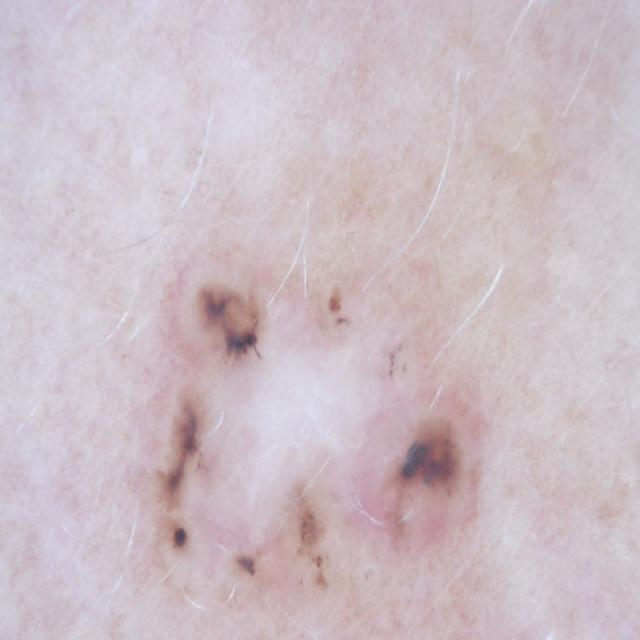Carcinoma: (111, 236, 498, 635)
